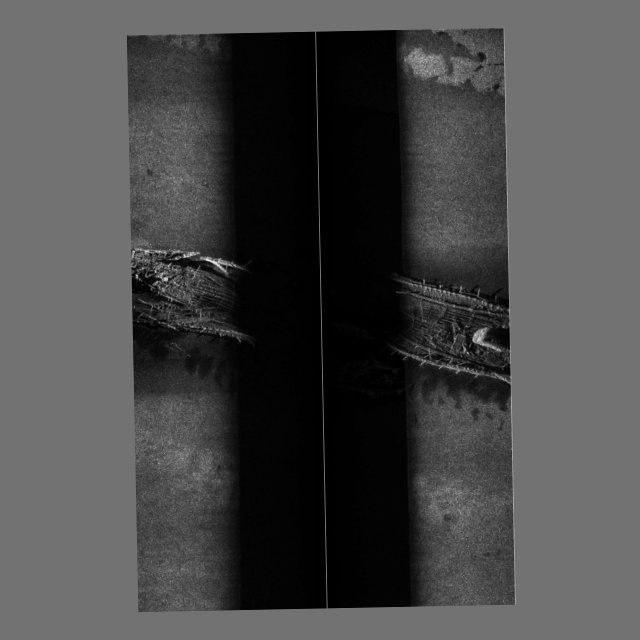Shipwreck: (130, 241, 510, 393)
